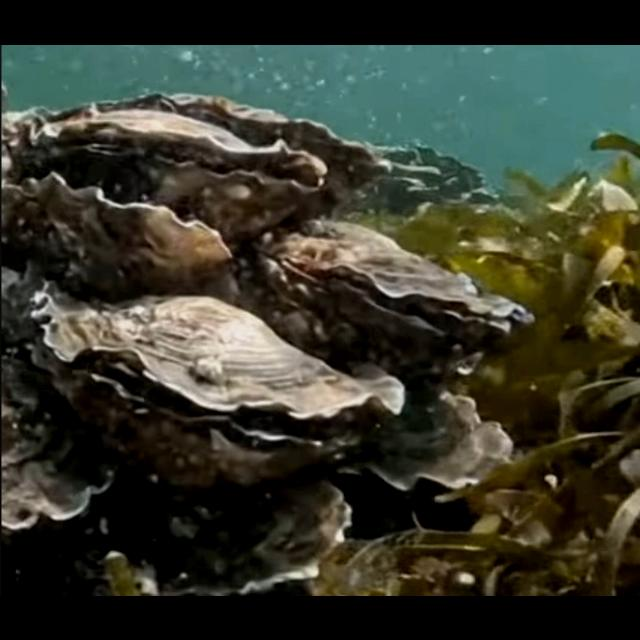Oyster-Closed: (95, 90, 392, 200), (120, 470, 352, 596), (0, 169, 234, 293), (0, 344, 114, 530), (331, 382, 513, 492)
Oyster-Open: (31, 279, 407, 486), (256, 216, 536, 374), (14, 106, 328, 238)
